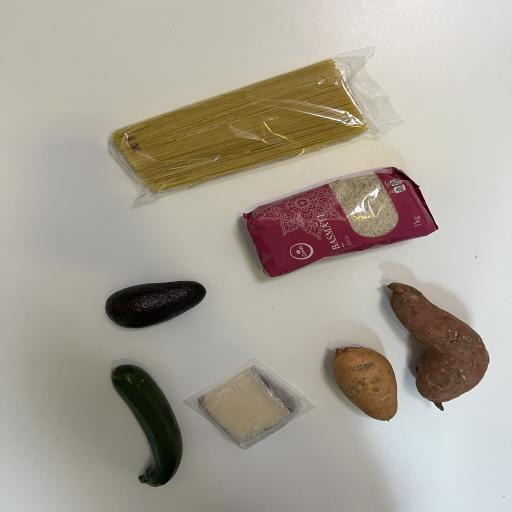avocado: (103, 278, 210, 333)
courgette: (106, 358, 188, 497)
cured_goat_cheese: (191, 360, 302, 454)
rice: (234, 168, 438, 280)
spaghetti: (105, 51, 391, 196)
sweet_potato: (379, 276, 495, 414), (327, 342, 403, 424)
